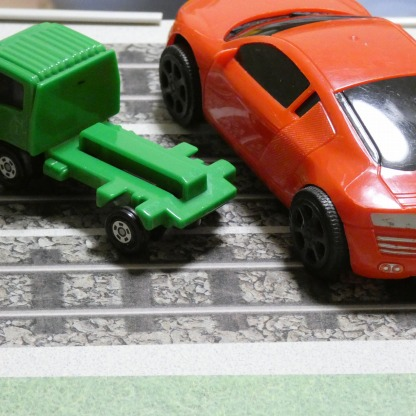car: (164, 0, 415, 287), (0, 18, 241, 267)
